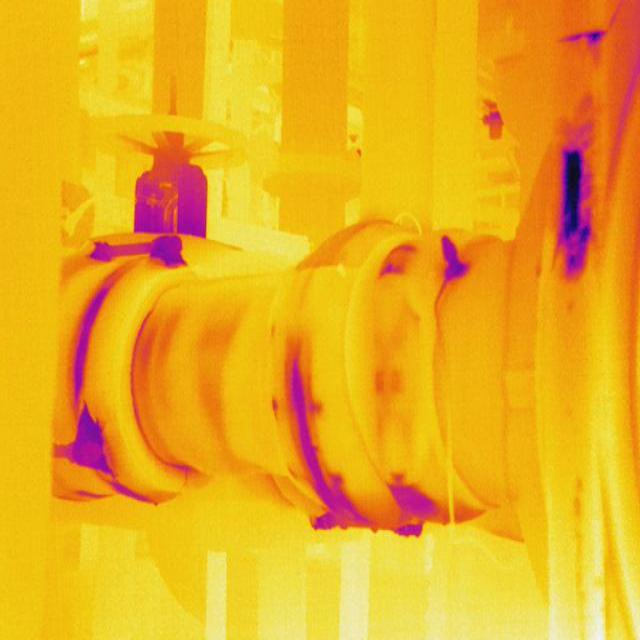leakage: (272, 338, 344, 532), (550, 140, 596, 282), (133, 301, 188, 390), (383, 467, 446, 538), (364, 328, 415, 415), (71, 283, 108, 397), (84, 231, 194, 268), (196, 320, 232, 422), (62, 403, 109, 474), (376, 234, 419, 284), (436, 231, 469, 282)
